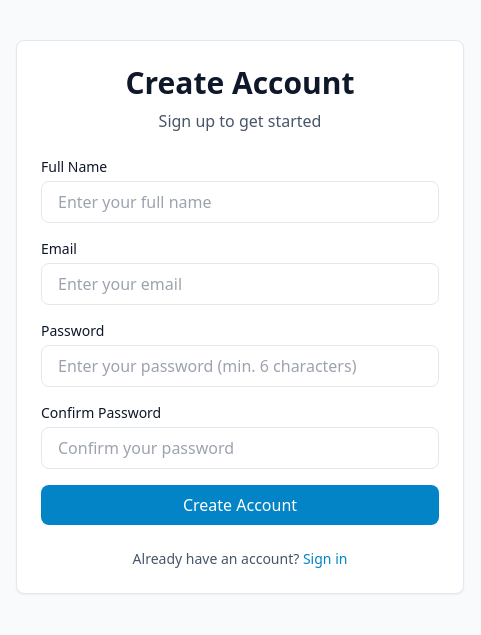
Test: Register › Form Validation › shows error for empty email
Type "Test User" into the field labelled "Full Name" at (240, 202), box top-left (41, 181), bottom-right (439, 223)
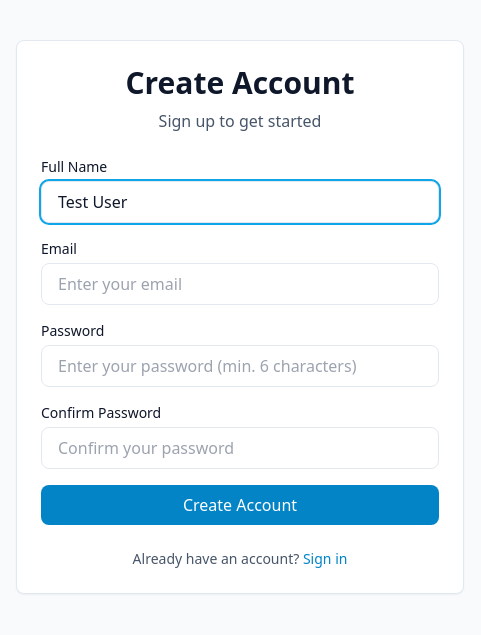
Click the button "Create Account" at (240, 505), box top-left (41, 485), bottom-right (439, 525)
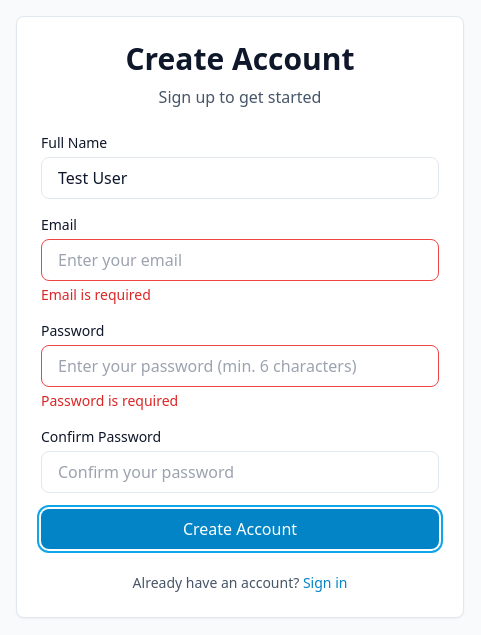
Expected: the text "Email is required" is shown, top-left (41, 285), bottom-right (151, 304)
